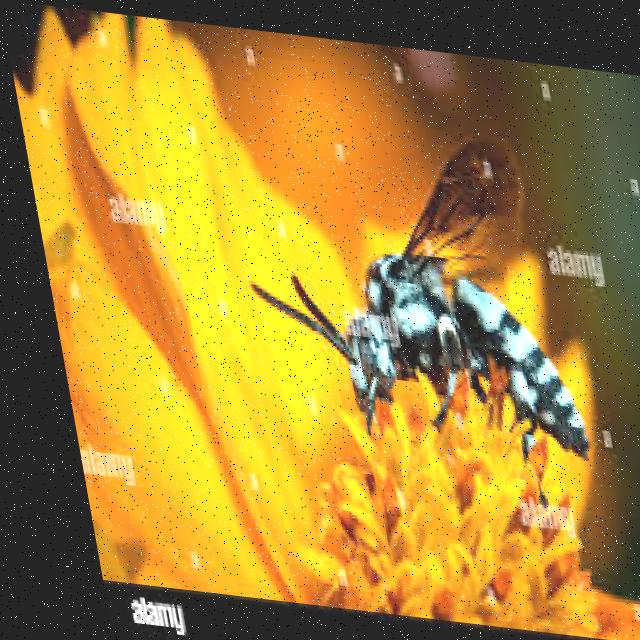Thyreus: (209, 77, 600, 490)
